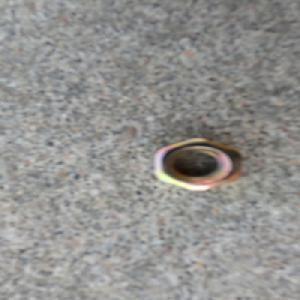Nut: (150, 137, 243, 192)
